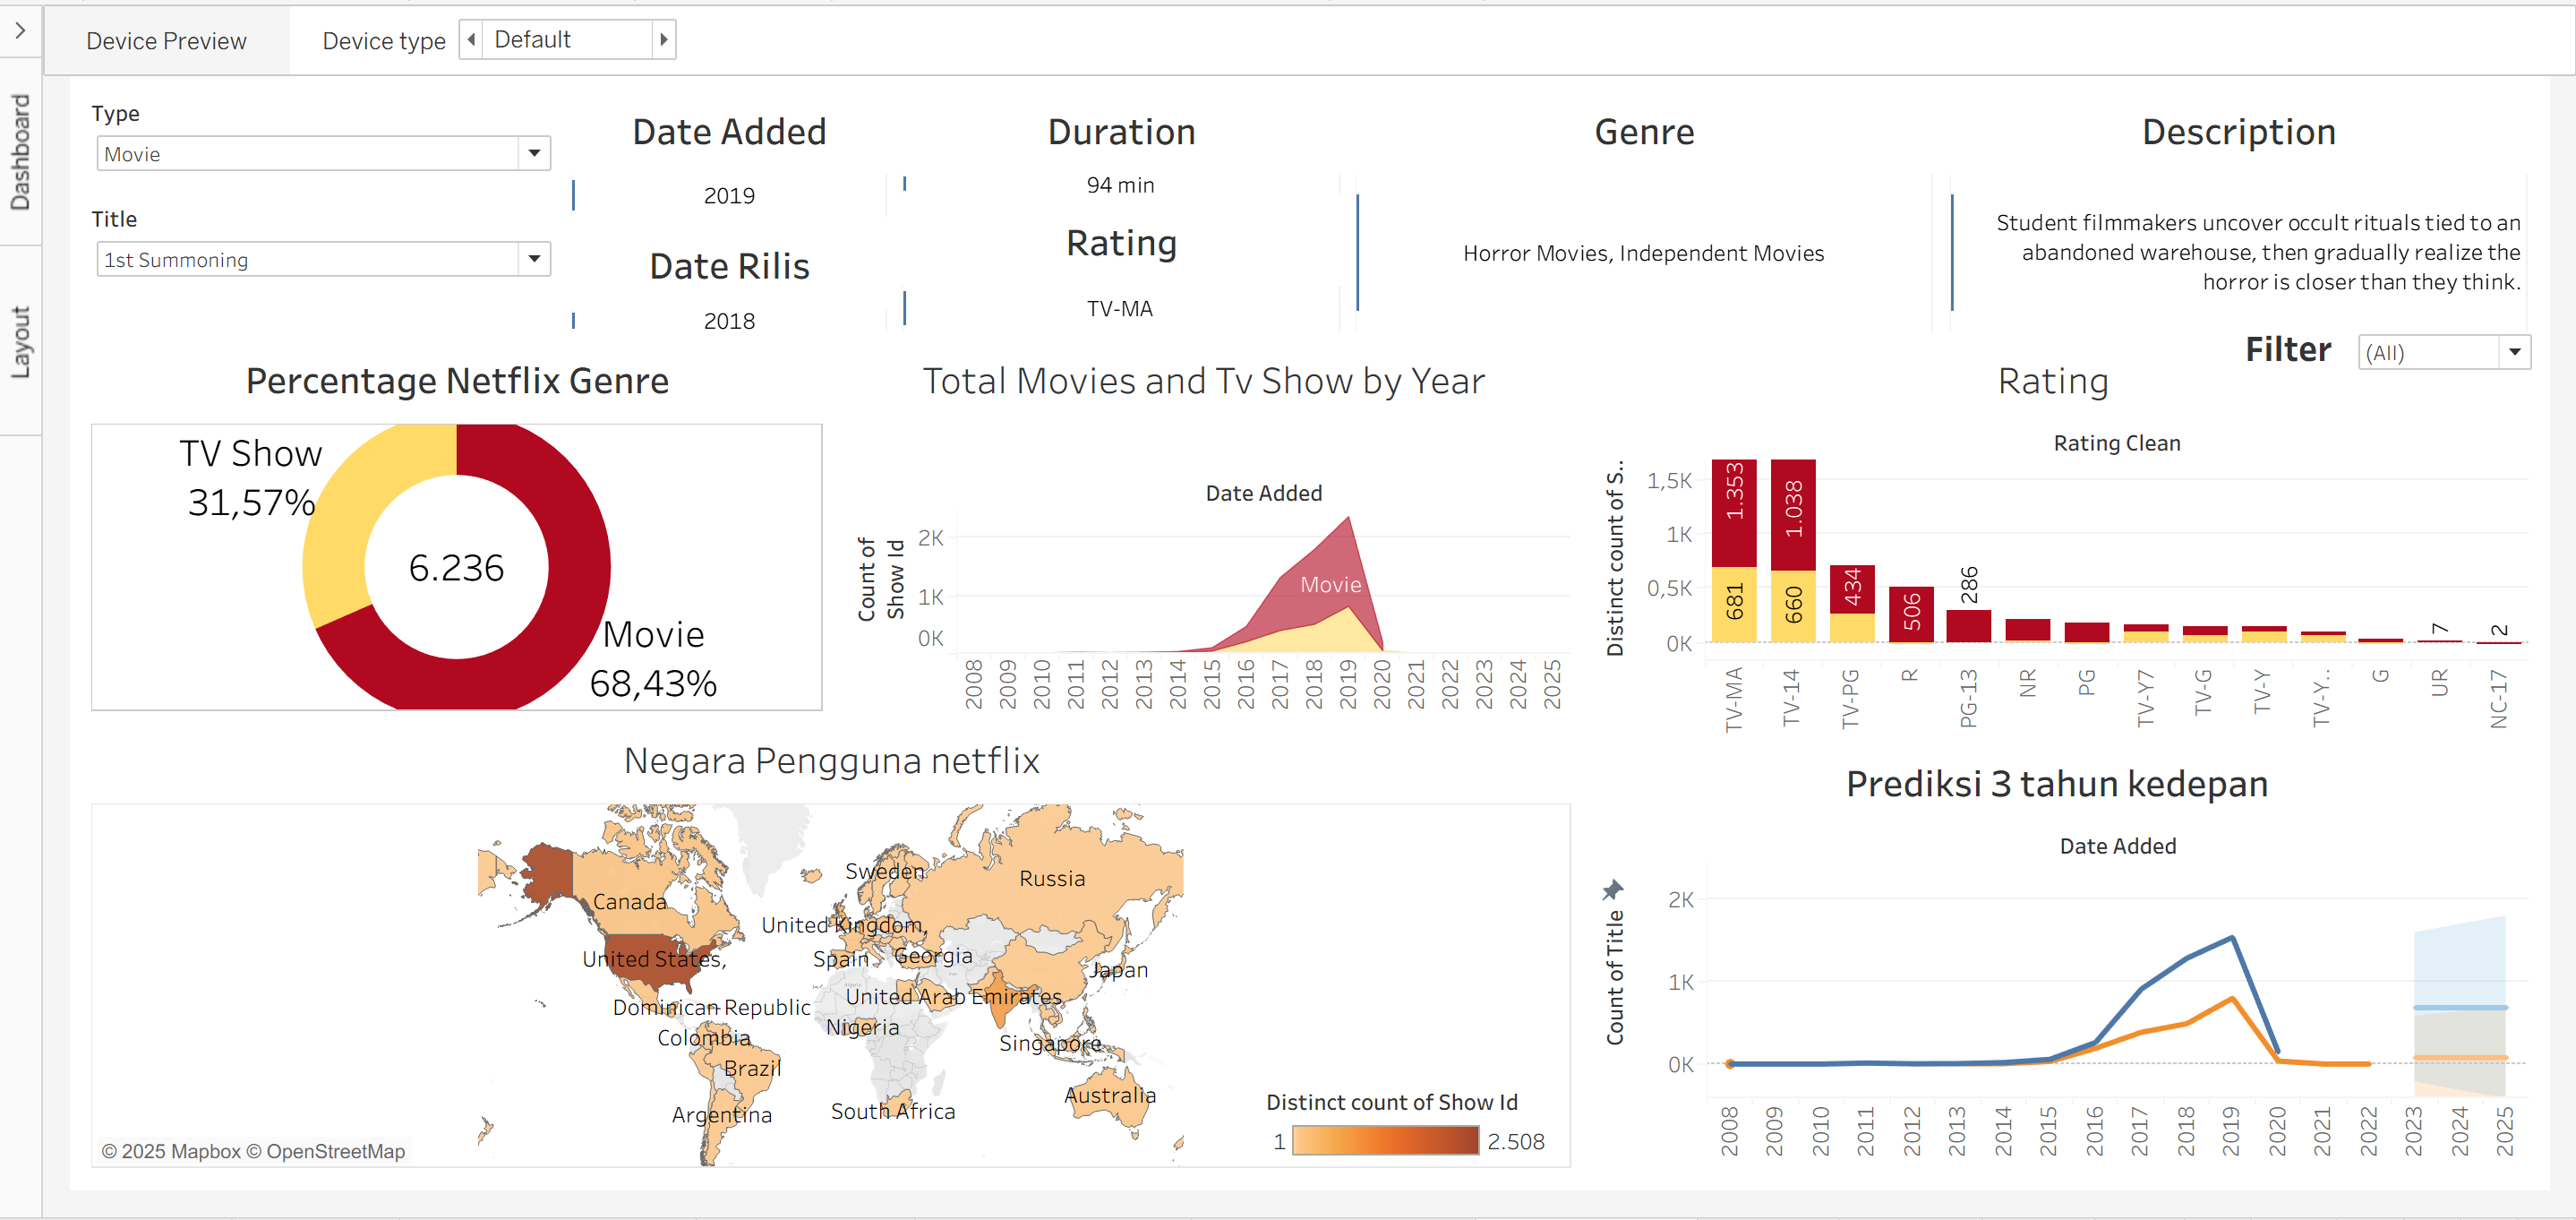

This screenshot's page, from the dashboard's own definition file:
{"tool":"tableau","page":{"name":"Dashboard Final","canvas":[1000,1000],"units":"permille","ordinal":0},"visuals":[{"type":"filter","title":"Description","param":"[federated.1slpq7q02bpf0z17xttm00c41xif].[none:type:nk]","box":[5.8,12.9,193.5,95.6]},{"type":"worksheet","title":"Date Added","mark":"Bar","box":[199.3,12.9,133.6,120.6]},{"type":"worksheet","title":"Duration","mark":"Bar","box":[332.9,12.9,182.8,100.1]},{"type":"worksheet","title":"Genre","mark":"Bar","box":[515.7,12.9,239.2,223.5]},{"type":"worksheet","title":"Description","mark":"Bar","box":[754.9,12.9,239.3,223.5]},{"type":"filter","title":"Description","param":"[federated.1slpq7q02bpf0z17xttm00c41xif].[none:title:nk]","box":[5.8,108.5,193.5,127.9]},{"type":"worksheet","title":"Rating","mark":"Bar","box":[332.9,112.9,182.8,123.4]},{"type":"worksheet","title":"Rilis","mark":"Bar","box":[199.3,133.4,133.6,102.9]},{"type":"filter","title":"Total Movies and Tv Show by Year","param":"[federated.1slpq7q02bpf0z17xttm00c41xif].[none:type:nk]","box":[868.6,226.7,126.4,61.1]},{"type":"worksheet","title":"Jumlah Movie dan Tv show","mark":"Pie","rows":["Calculation_1998472398601449473","Calculation_1998472398601469955"],"box":[5.8,236.3,301.3,340.8]},{"type":"worksheet","title":"Total Movies and Tv Show by Year","mark":"Area","rows":["show_id"],"cols":["date_added"],"box":[307.1,236.3,301.3,340.8]},{"type":"worksheet","title":"Rating Percentage","mark":"Bar","rows":["show_id"],"cols":["Calculation_1998472398619725829"],"box":[608.4,236.3,385.8,362.3]},{"type":"worksheet","title":"Negara Pengguna netflix","mark":"Multipolygon","box":[5.8,577.1,602.6,410]},{"type":"worksheet","title":"Prediksi 3 tahun kedepan","mark":"Line","rows":["title"],"cols":["date_added"],"box":[608.4,598.6,385.8,388.5]},{"type":"legend","title":"Negara Pengguna netflix","param":"[federated.1slpq7q02bpf0z17xttm00c41xif].[ctd:show_id:qk]","box":[482.3,906.8,116.2,64.3]}]}

Visuals, with their boxes on the dashboard's canvas, which has no fixed pixel size, in thousandths of its width and height (x1, y1, x2, y2). These are canvas units, not pixel positions in the 2576x1220 screenshot, which may show the page scaled, cropped or inside an application window:
"Description" filter: 6 13 199 108
"Date Added" worksheet (Bar marks): 199 13 333 134
"Duration" worksheet (Bar marks): 333 13 516 113
"Genre" worksheet (Bar marks): 516 13 755 236
"Description" worksheet (Bar marks): 755 13 994 236
"Description" filter: 6 108 199 236
"Rating" worksheet (Bar marks): 333 113 516 236
"Rilis" worksheet (Bar marks): 199 133 333 236
"Total Movies and Tv Show by Year" filter: 869 227 995 288
"Jumlah Movie dan Tv show" worksheet (Pie marks): 6 236 307 577
"Total Movies and Tv Show by Year" worksheet (Area marks): 307 236 608 577
"Rating Percentage" worksheet (Bar marks): 608 236 994 599
"Negara Pengguna netflix" worksheet (Multipolygon marks): 6 577 608 987
"Prediksi 3 tahun kedepan" worksheet (Line marks): 608 599 994 987
"Negara Pengguna netflix" legend: 482 907 598 971
